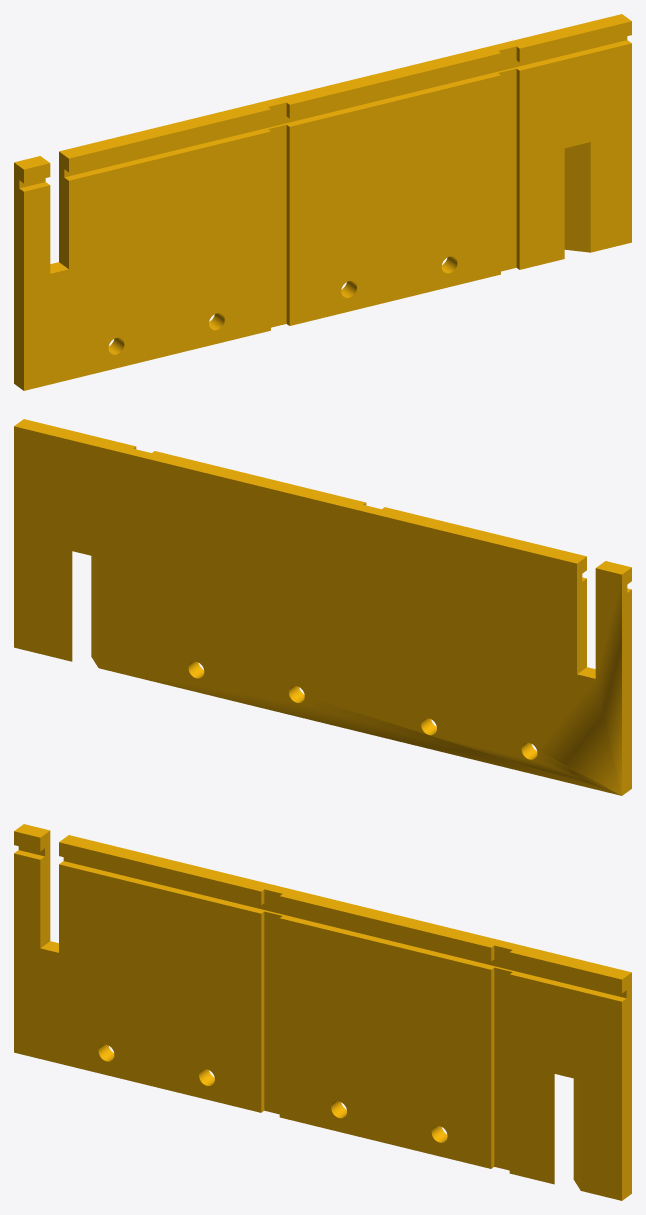
Rendered from red_part.obj.
3 views of the same model, one above another, from view 1: azimuth 30°, elevation 25°; view 2: azimuth 150°, elevation 25°; view 3: azimuth 330°, elevation 25° (orthographic).
Visible parts, largest first — view 1: red_part; view 2: red_part; view 3: red_part.
Part boxes in pixels (x1,y1,x2,y2): red_part: (14,14,631,390); red_part: (14,419,631,795); red_part: (14,824,631,1200).
Size of the model in its own units: 0.23 by 0.08 by 0.0065.
